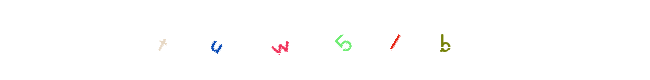1: (311, 0, 391, 80)
5: (284, 0, 364, 80)
B: (404, 0, 484, 80)
T: (176, 0, 256, 80)
U: (260, 0, 340, 80)
W: (277, 0, 357, 80)
